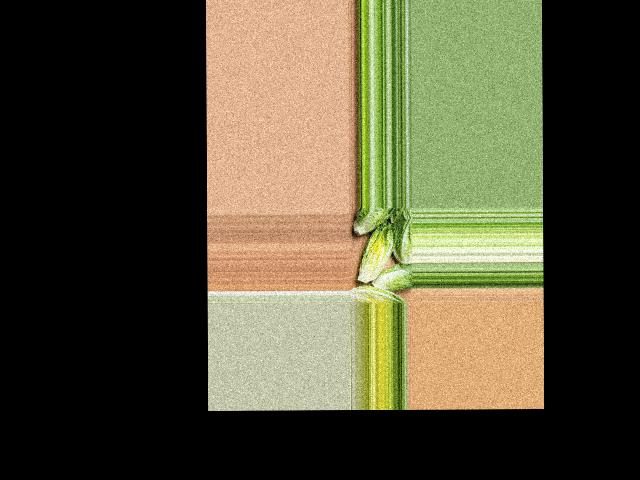lettuce: (350, 284, 405, 304)
